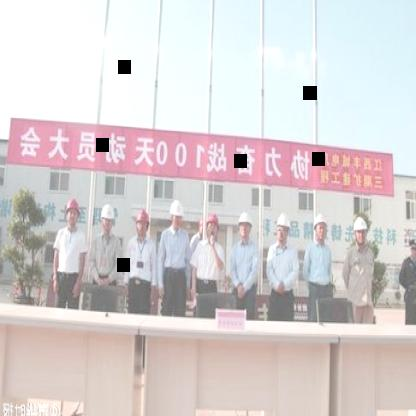helmet: (235, 210, 258, 242), (275, 208, 293, 245), (64, 194, 83, 228), (352, 215, 370, 249), (204, 206, 221, 242), (134, 206, 152, 238), (312, 212, 328, 246), (170, 198, 187, 230), (99, 204, 116, 234)
